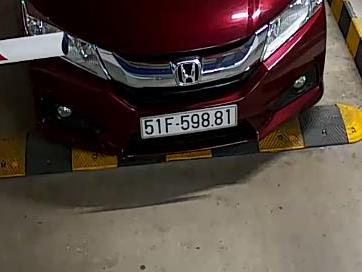car: (140, 104, 238, 141)
